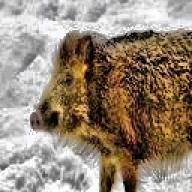boar: (28, 27, 192, 192)
